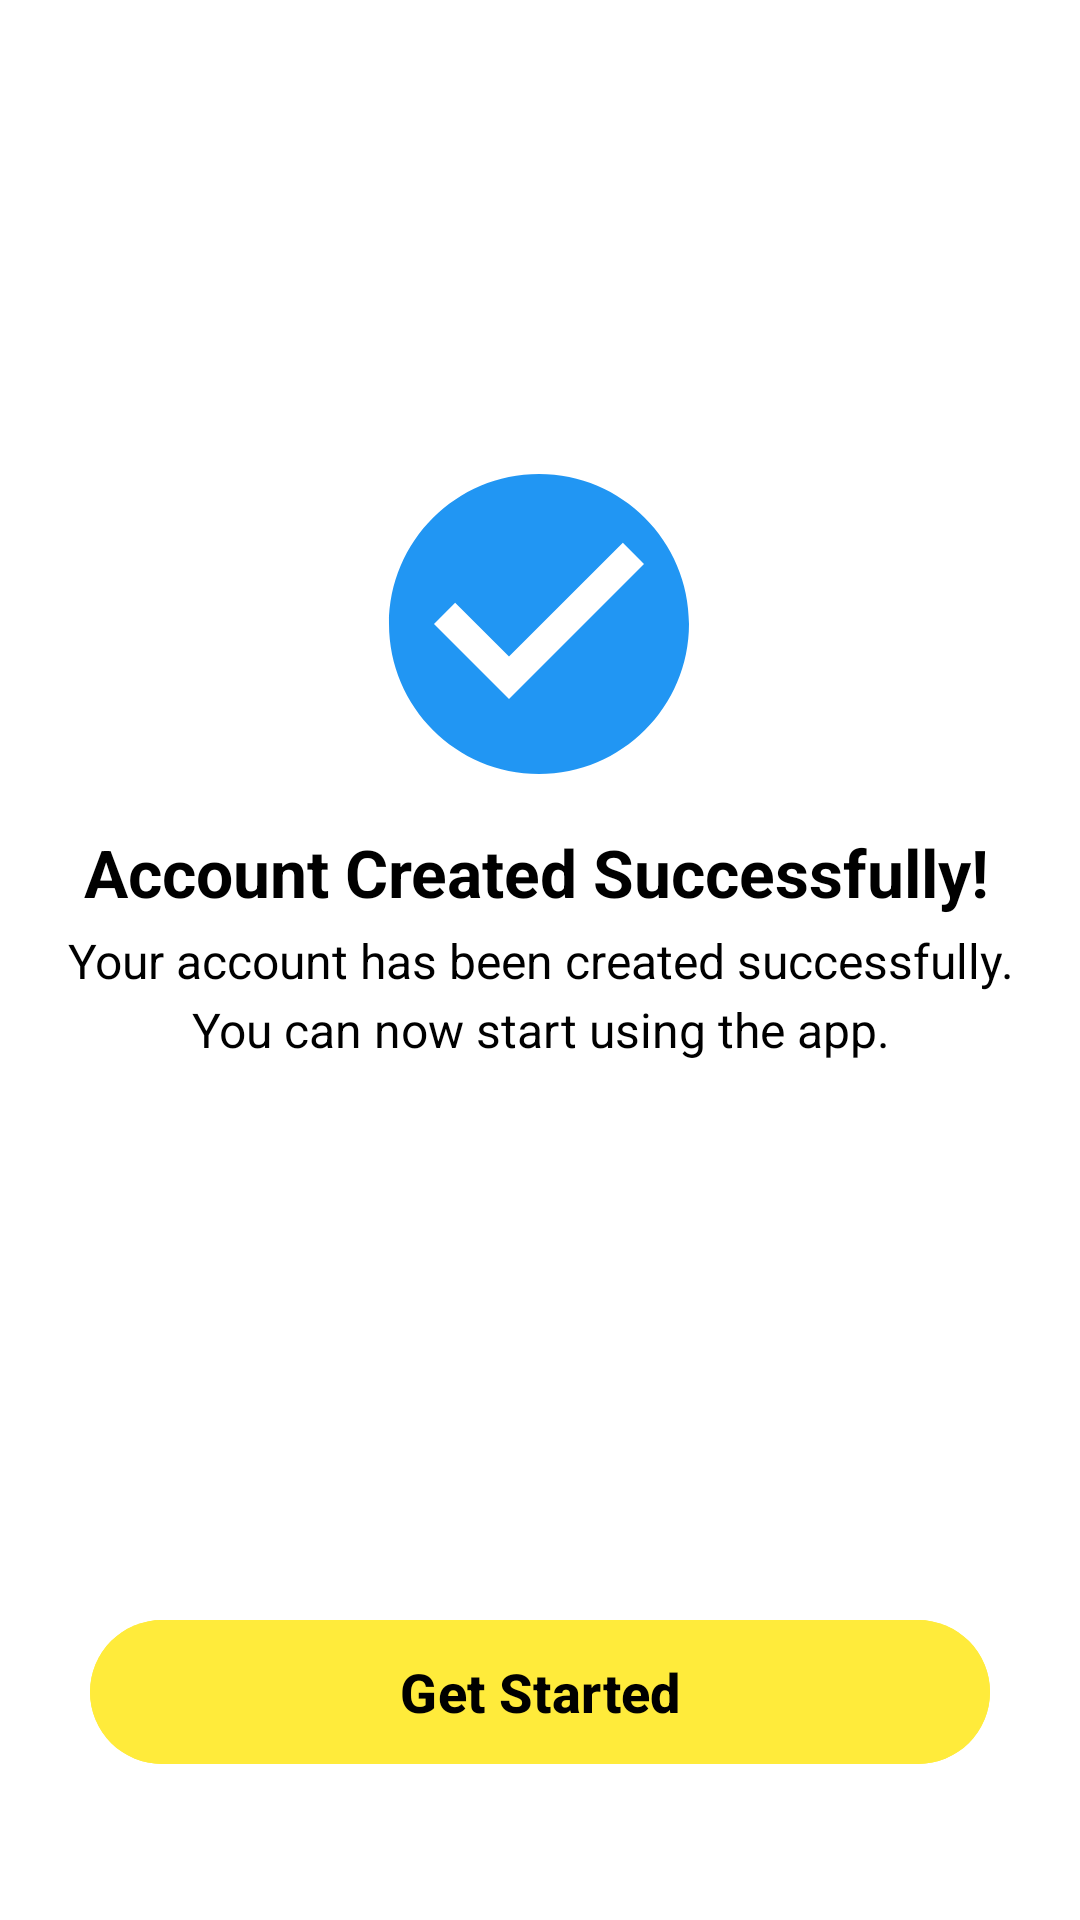

Icons on this 1080w x 1920h Android screen, each with its box as [x1,y1,x2,y2]:
Success icon: [389,474,689,774]
